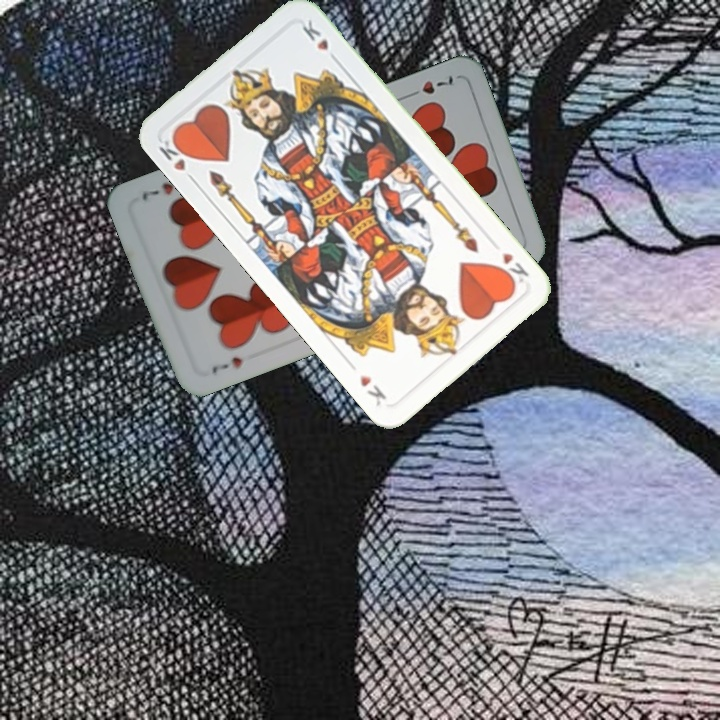H7: (402, 71, 456, 101), (208, 352, 245, 376)
HK: (154, 132, 199, 186), (493, 248, 532, 289)
